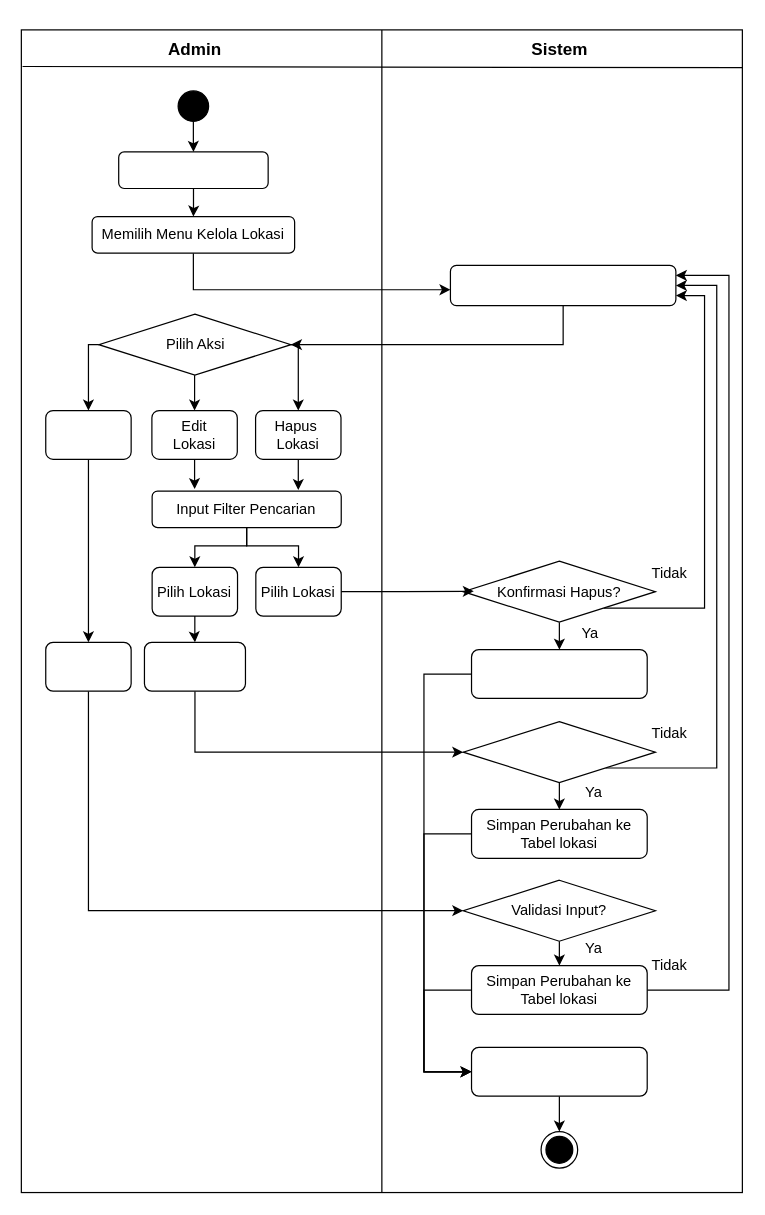
This 765x1215 diagram has some shape labels left out. The shapes that lost their labels are listed below. From the top down, each one's centre as x and y in pixels, then its label:
At pixel 192 169: "Login ke Sistem".
At pixel 562 285: "Menampilkan Daftar Lokasi".
At pixel 88 434: "Tambah Lokasi".
At pixel 88 666: "Mengisi Data Lokasi".
At pixel 194 666: "Memperbarui Data Lokasi".
At pixel 558 673: "Menghapus Data Lokasi dari Tabel lokasi".
At pixel 558 751: "Validasi Perubahan?".
At pixel 558 1071: "Menampilkan Daftar Lokasi Terbaru".
